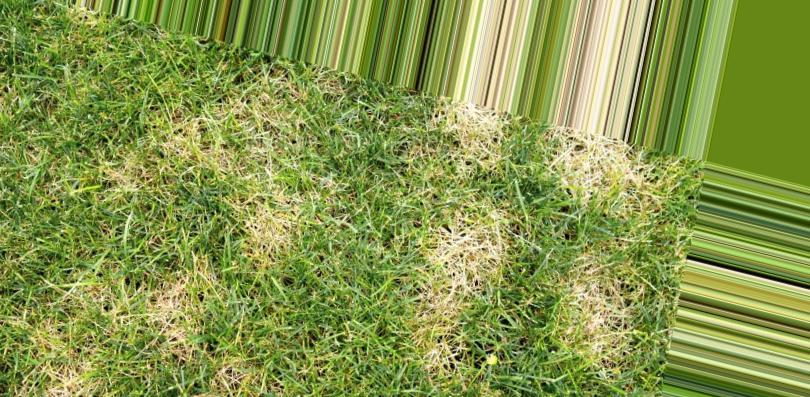patch: (548, 146, 612, 190), (569, 300, 617, 353), (442, 217, 491, 261), (451, 109, 499, 144)
